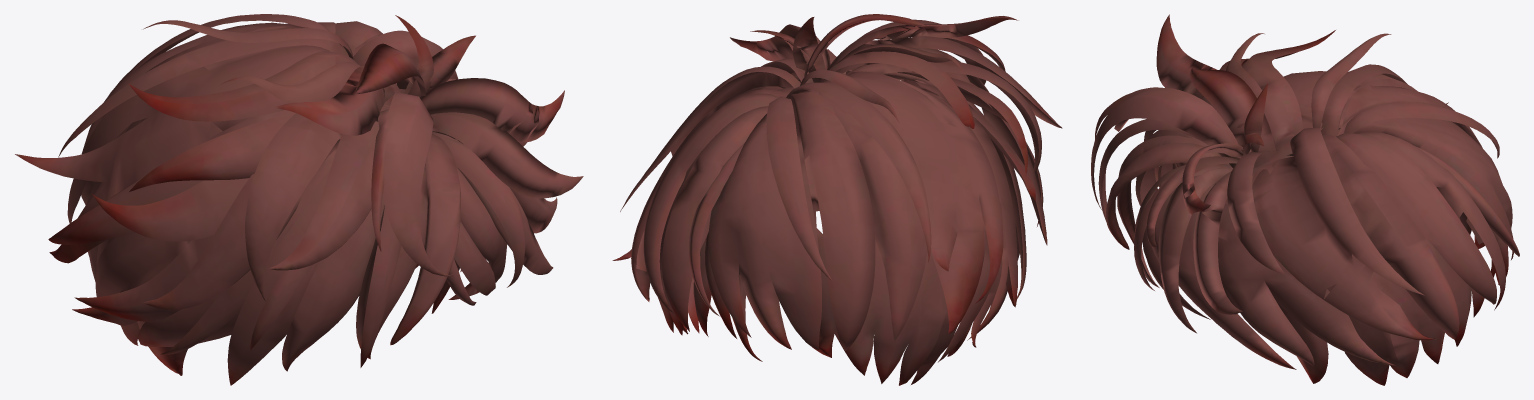
File: hair_m4_messy.glb
The picture shows the model from 3 angles, left to right: view 1: azimuth 30°, elevation 25°; view 2: azimuth 150°, elevation 25°; view 3: azimuth 270°, elevation 25°; orthographic projection. The views are drawn at different scales.
Visible parts, largest first — view 1: Hair_M4_messy; view 2: Hair_M4_messy; view 3: Hair_M4_messy.
Part boxes in pixels (x1,y1,x2,y2): Hair_M4_messy: (15, 14, 583, 385); Hair_M4_messy: (612, 14, 1062, 385); Hair_M4_messy: (1091, 14, 1519, 385).
Size of the model in its own units: 0.5291 by 0.4004 by 0.5617.
Materials: 1 (1 with a texture image).
